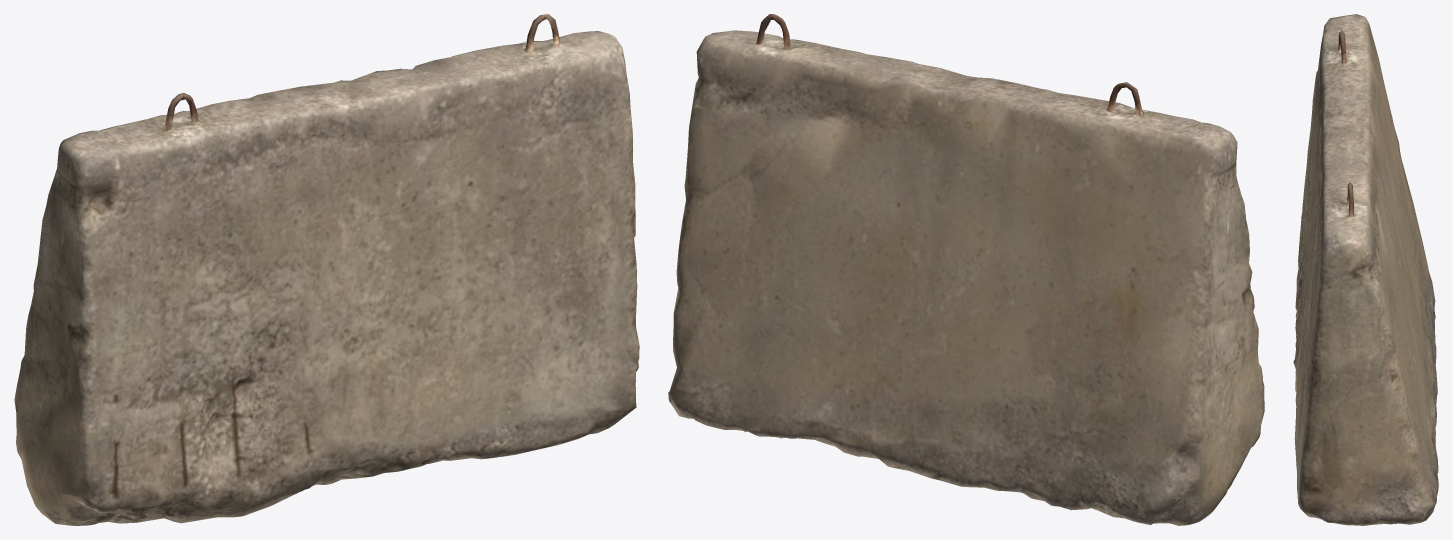
The model's file is concrete_road_barrier_02.glb.
3 views of the same model, side by side, from view 1: azimuth 30°, elevation 25°; view 2: azimuth 150°, elevation 25°; view 3: azimuth 270°, elevation 25° (orthographic). The views are drawn at different scales.
Visible parts, largest first — view 1: concrete_road_barrier_02; view 2: concrete_road_barrier_02; view 3: concrete_road_barrier_02.
Boxes of the visible parts, x1=… form: concrete_road_barrier_02: x1=14, y1=14, x2=639, y2=525; concrete_road_barrier_02: x1=668, y1=14, x2=1264, y2=525; concrete_road_barrier_02: x1=1293, y1=14, x2=1438, y2=525.
Bounding box in the file's own units: 1.56 × 1.11 × 0.4418.
Materials: 1 (1 with a texture image).
